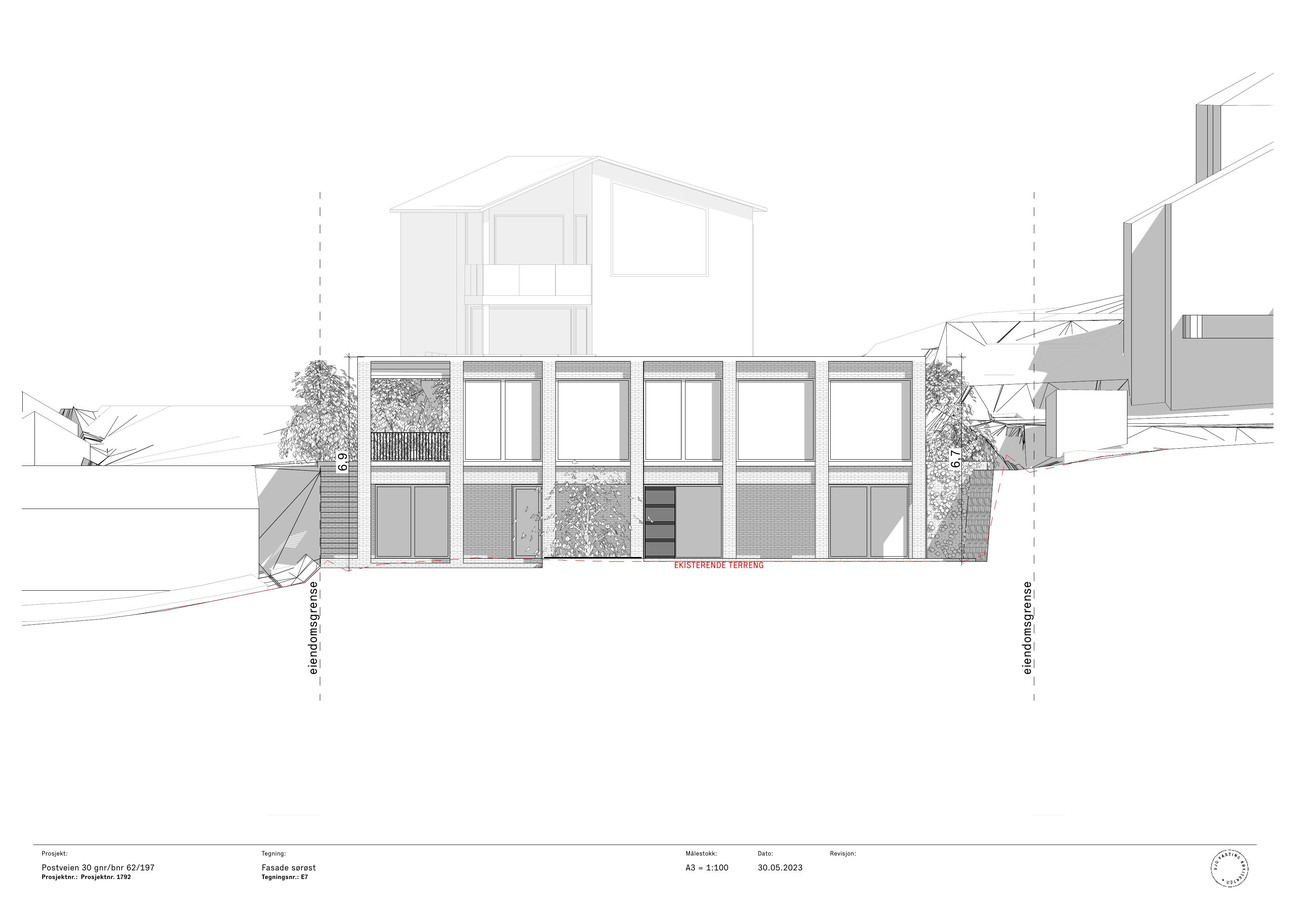fasade: (322, 353, 931, 575)
